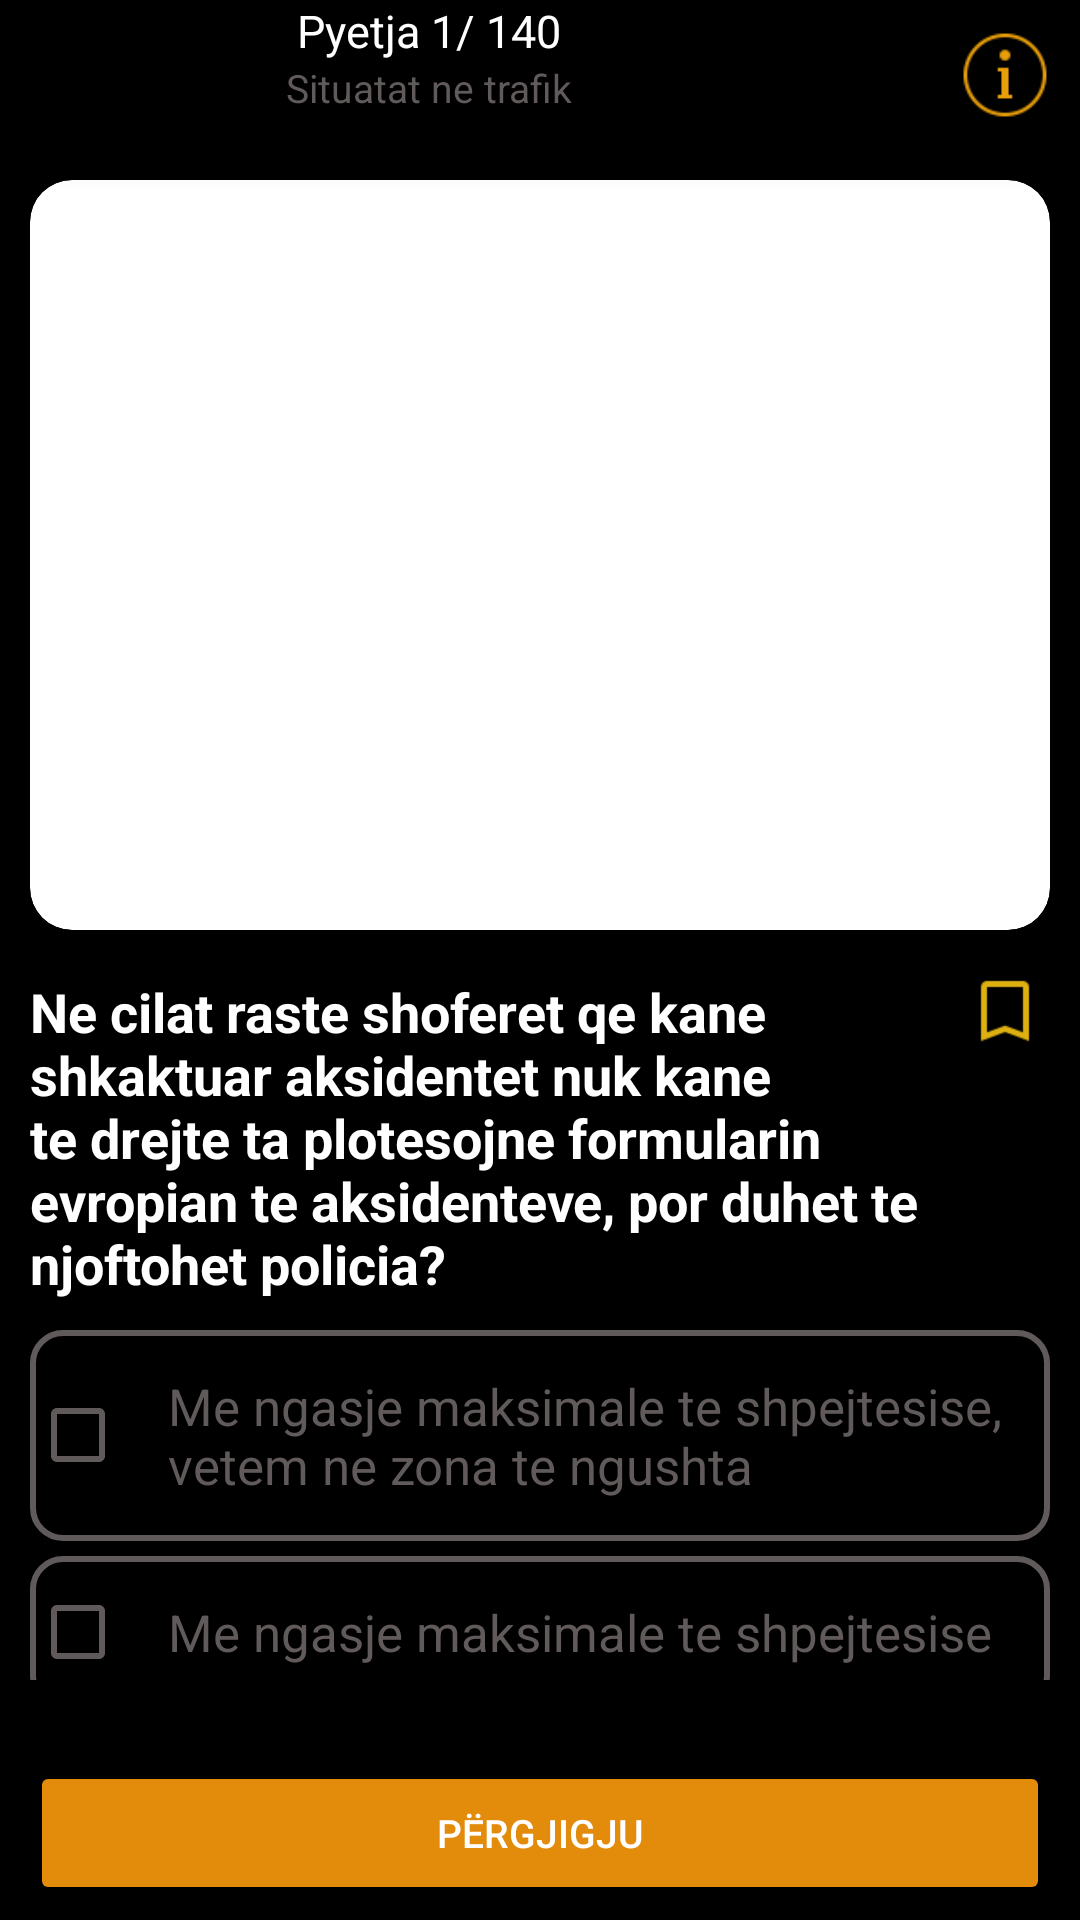

Named icons in this screenshot (1080*1920) and their bounding boxes, (x1, y1, x2, y2):
info: (963, 33, 1047, 117)
save unfilled: (980, 980, 1030, 1042)
